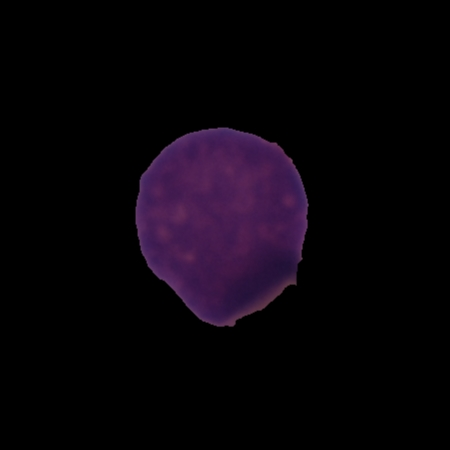HEM: (132, 124, 311, 329)
